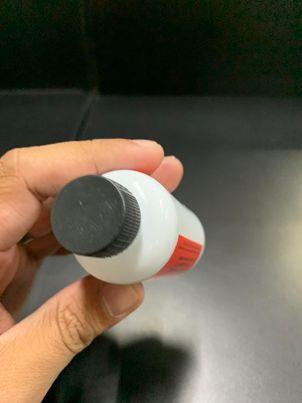-Bottle-: (50, 168, 206, 285)
